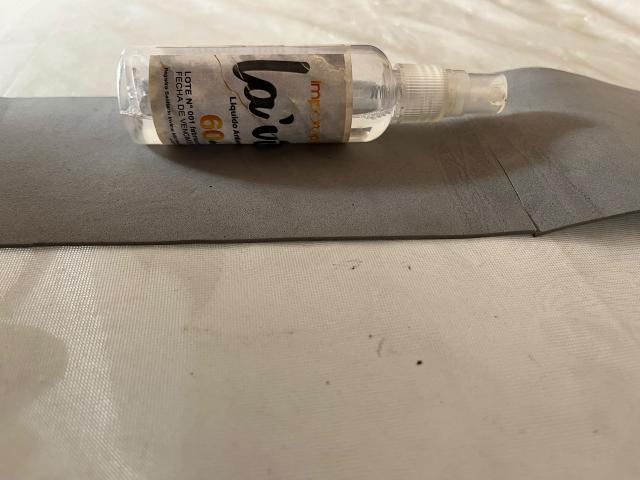PET: (98, 30, 550, 219)
